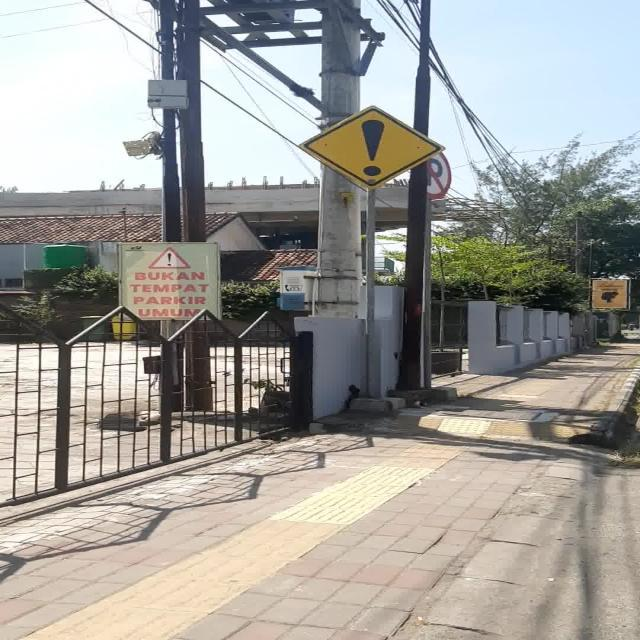Hati-Hati: (296, 105, 446, 190)
